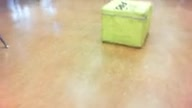cube: (100, 1, 153, 49)
